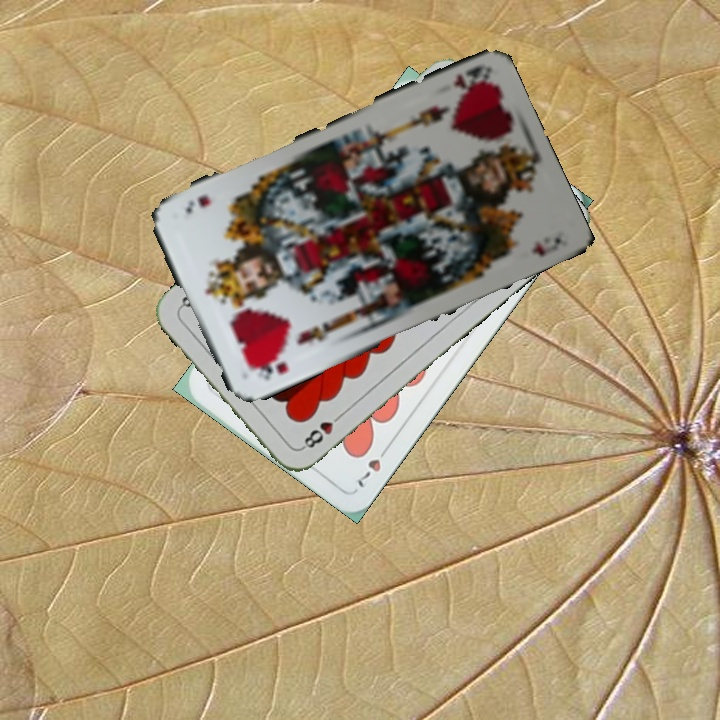H7: (352, 441, 392, 491)
H8: (297, 409, 346, 452)
HK: (449, 62, 491, 93), (246, 354, 290, 383)
